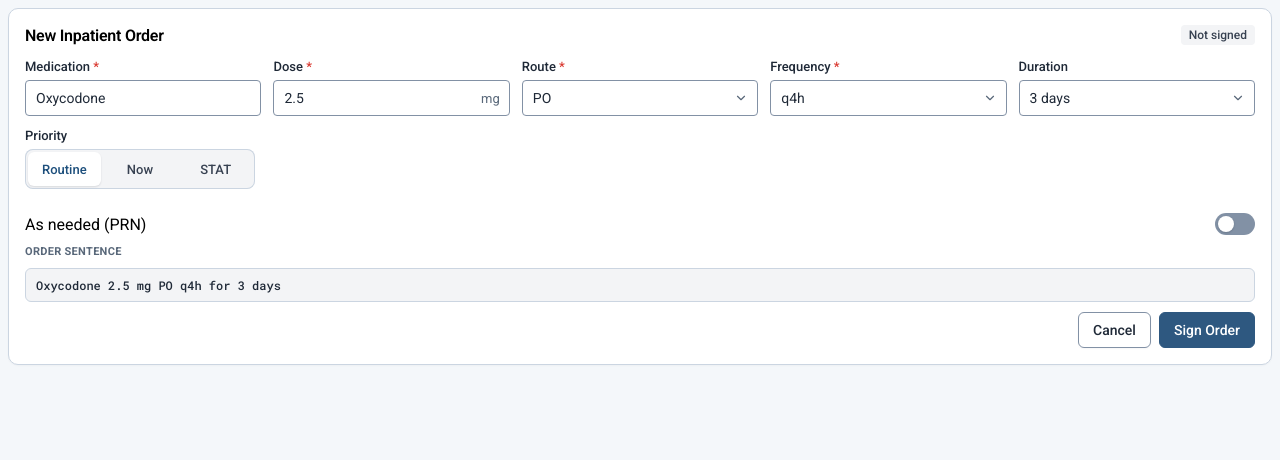
InpatientOrderEntry › STAT priority warns and relabels the sign button
Click the radio button labelled "STAT".
click(216, 169)  # box [179,152,252,186]
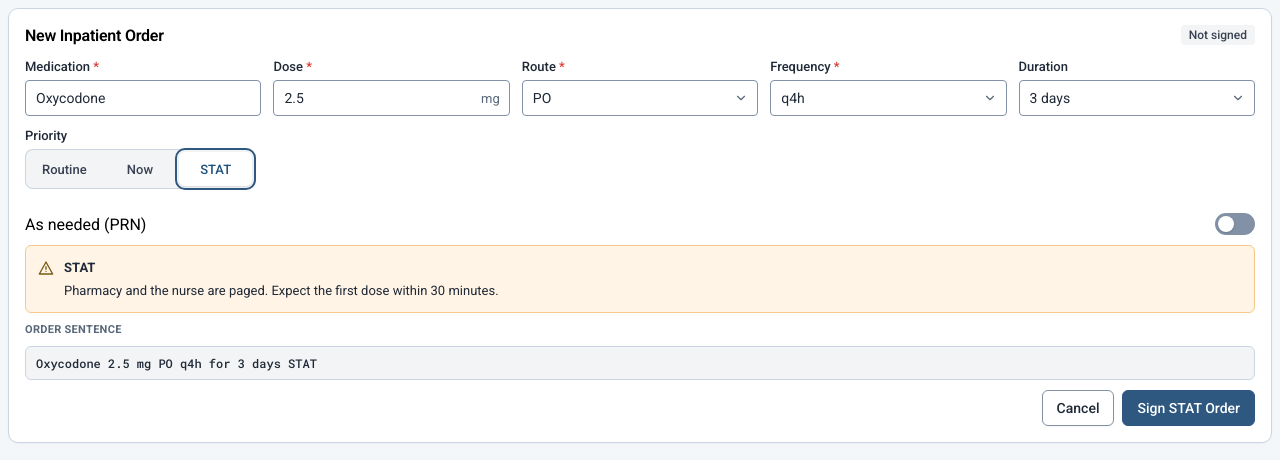
expect the button "Sign STAT Order" is enabled: met, box [1122,390,1255,426]
expect the text "Pharmacy and the nurse are paged. Expect the first dose within 30 minutes." is shown: met, box [64,283,499,298]
expect the text "Oxycodone 2.5 mg PO q4h for 3 days STAT" is shown: met, box [25,346,1255,380]
